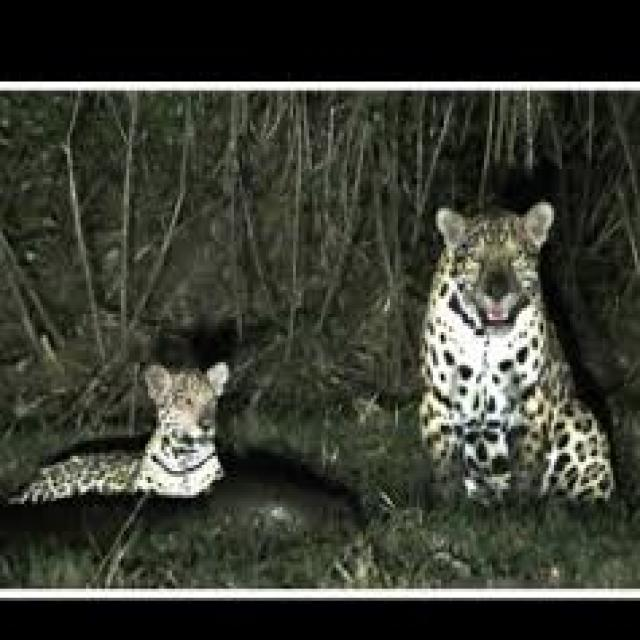Jaguar: (409, 193, 621, 507), (16, 362, 237, 504)
